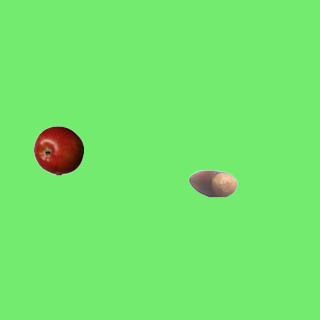Apple Braeburn: (33, 125, 83, 175)
Hazelnut: (187, 158, 237, 208)
